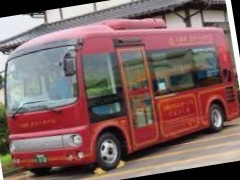bus: (0, 3, 240, 180)
